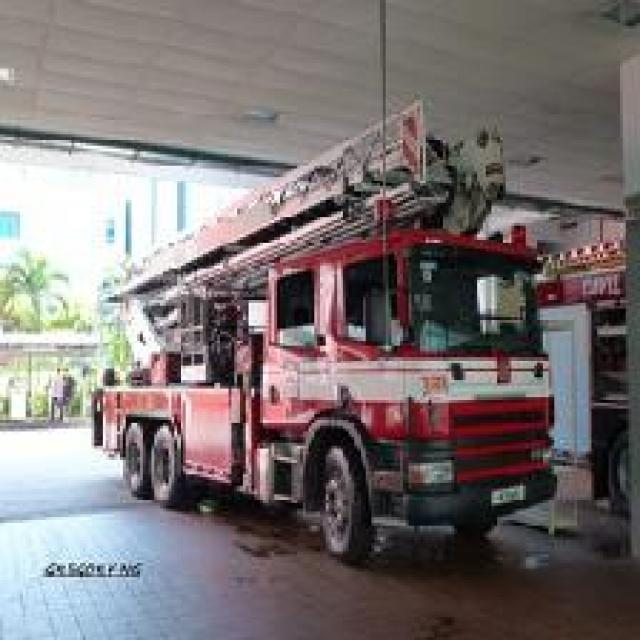emergency: (85, 224, 560, 566)
